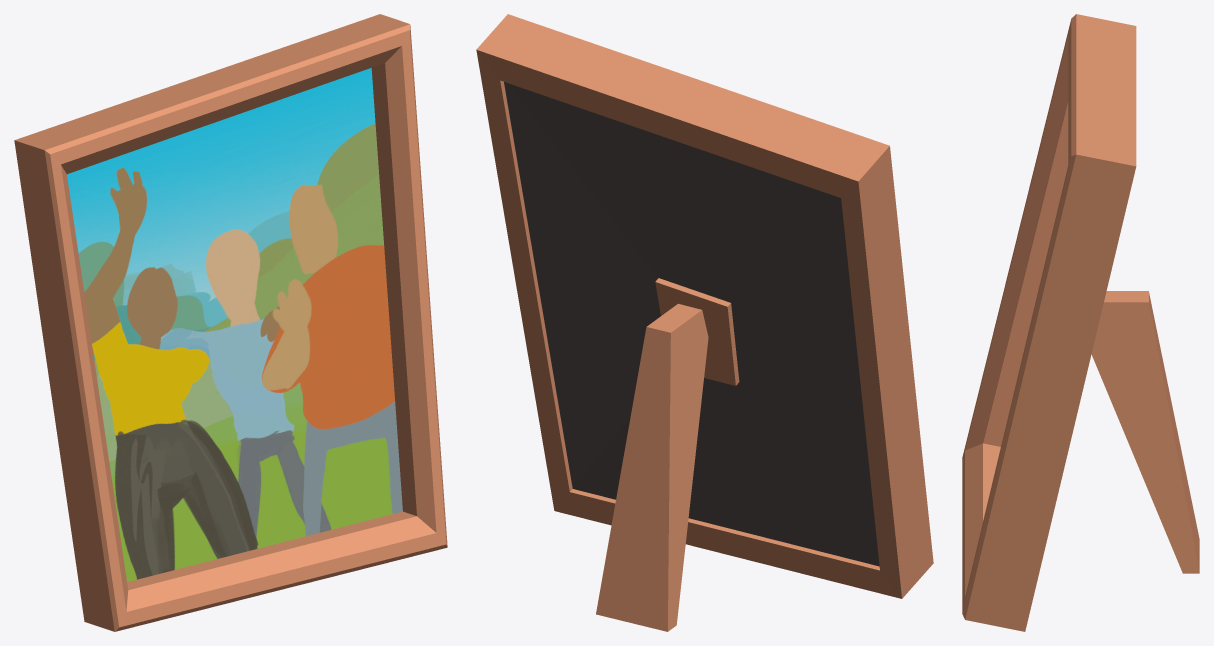
The model's file is FrameSmall.glb.
3 renders of one model, left to right at view 1: azimuth 30°, elevation 25°; view 2: azimuth 150°, elevation 25°; view 3: azimuth 270°, elevation 25°, orthographic. The views are drawn at different scales.
Visible parts, largest first — view 1: FrameSmall; view 2: FrameSmall; view 3: FrameSmall.
Boxes of the visible parts, x1,y1,x2,y2 form: FrameSmall: [14, 14, 447, 631]; FrameSmall: [476, 14, 933, 631]; FrameSmall: [962, 14, 1199, 631].
Size of the model in its own units: 0.044 by 0.0567 by 0.0249.
Materials: 3 (1 with a texture image).
